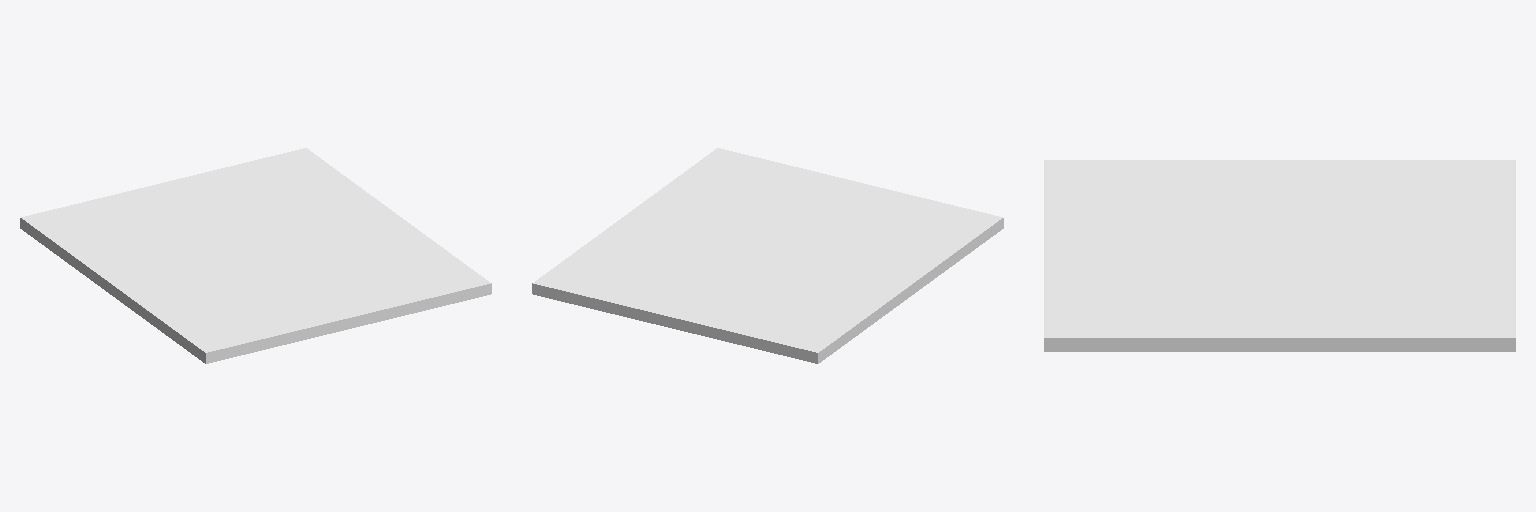
The robot description file, URDF, robot "wall2_7.urdf":
<?xml version="1.0" ?>
<robot name="wall2_7.urdf">
  <link name="baseLink">
    <inertial>
      <origin rpy="0 0 0" xyz="0 0 0"/>
       <mass value="0.0"/>
       <inertia ixx="0" ixy="0" ixz="0" iyy="0" iyz="0" izz="0"/>
    </inertial>
    <visual>
      <origin rpy="0 0 0" xyz="0 0 0"/>
      <geometry>
        <mesh filename="wall2_7.obj" scale="1.0 1.0 1.0"/>
      </geometry>
      <material name="white">
       <color rgba="1 1 1 1"/>
     </material>
    </visual>
    <collision concave="yes">
      <origin rpy="0 0 0" xyz="0 0 0"/>
      <geometry>
        <mesh filename="wall2_7.obj" scale="1.0 1.0 1.0"/>
        <!-- You could also specify the collision (for the wall2_7) with a "box" tag: -->
        <!-- <box size=".06 .06 .06"/> -->
      </geometry>
    </collision>
  </link>
</robot>
        

--- What the picture shows (computed from the rendered views, not written in the file) ---
The picture shows the robot from 3 angles, left to right: view 1: azimuth 30°, elevation 25°; view 2: azimuth 150°, elevation 25°; view 3: azimuth 270°, elevation 25°; orthographic projection.
Model wall2_7.urdf with 1 links and 0 joints (none), rooted at baseLink, posed all joints at 0.
Visible links, largest first — view 1: baseLink; view 2: baseLink; view 3: baseLink.
Boxes of the visible links, x1=… form: baseLink: x1=20, y1=148, x2=491, y2=363; baseLink: x1=532, y1=148, x2=1003, y2=363; baseLink: x1=1044, y1=160, x2=1515, y2=351.
Size in the robot's own frame: 2.45 by 2.75 by 0.091 metres.
1 mesh visuals loaded from 1 distinct referenced files (1 OBJ).
